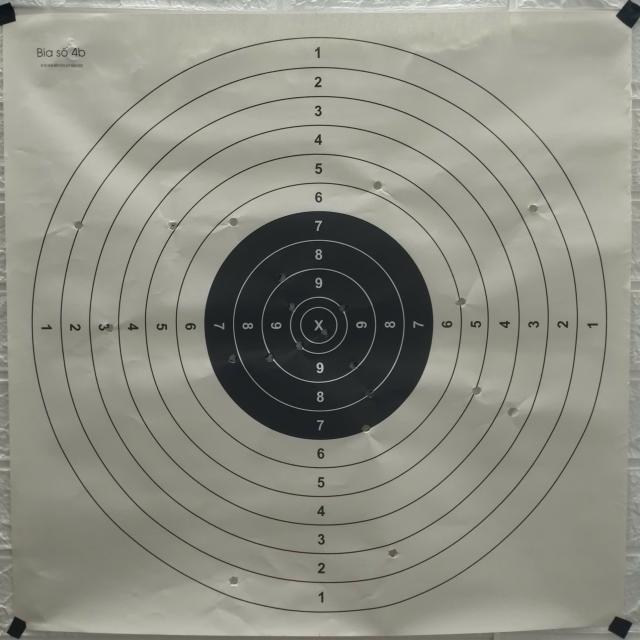bullet: (388, 548, 400, 560), (228, 576, 240, 588), (456, 296, 468, 308), (372, 180, 383, 192), (472, 384, 483, 396), (228, 216, 239, 228), (264, 352, 272, 364), (528, 204, 540, 212), (348, 360, 356, 372), (320, 328, 328, 340), (364, 388, 372, 399), (360, 424, 370, 432), (168, 220, 176, 230), (296, 340, 303, 351), (288, 300, 295, 311), (508, 408, 516, 416), (72, 220, 80, 228), (228, 356, 236, 364), (280, 272, 287, 280), (340, 304, 344, 311)
target: (4, 12, 620, 635)
